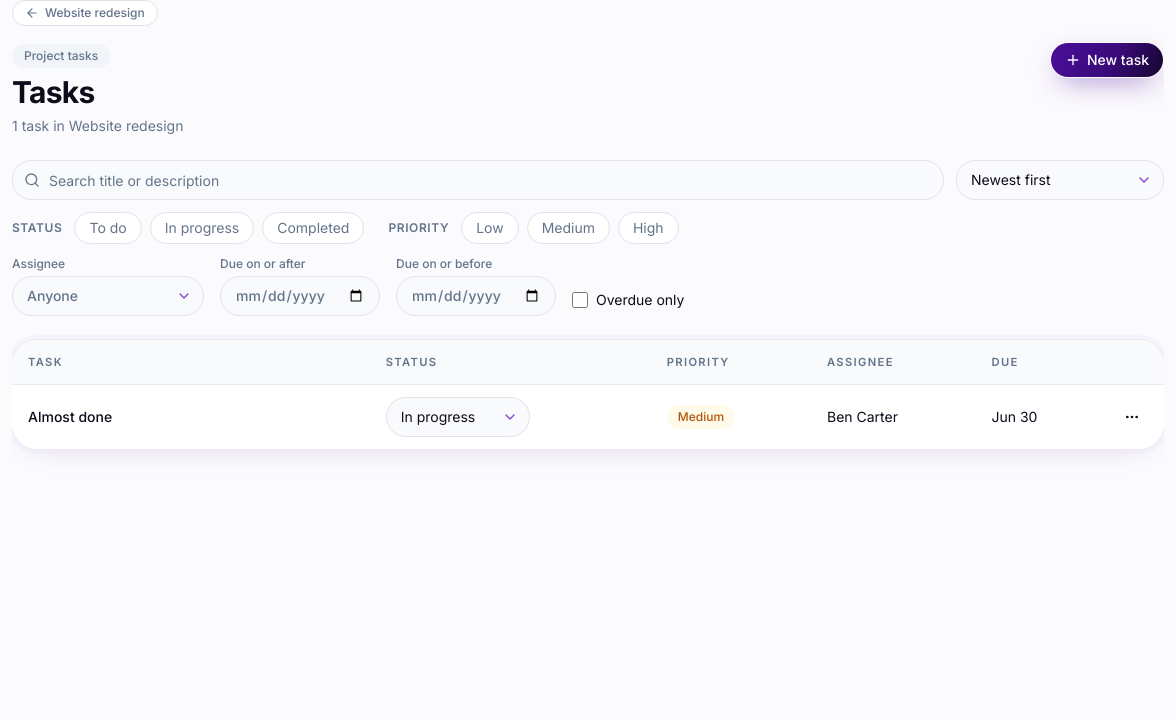
Test: status selector › shows the backend's reason when it refuses, and keeps the old status
This screenshot has width=1176, height=720.
Expected: the heading "Tasks" is shown, [12,74,94,110]
Select "Completed" in the dropdown named "Status of Almost done". click: (458, 416)
box: [386,396,530,436]
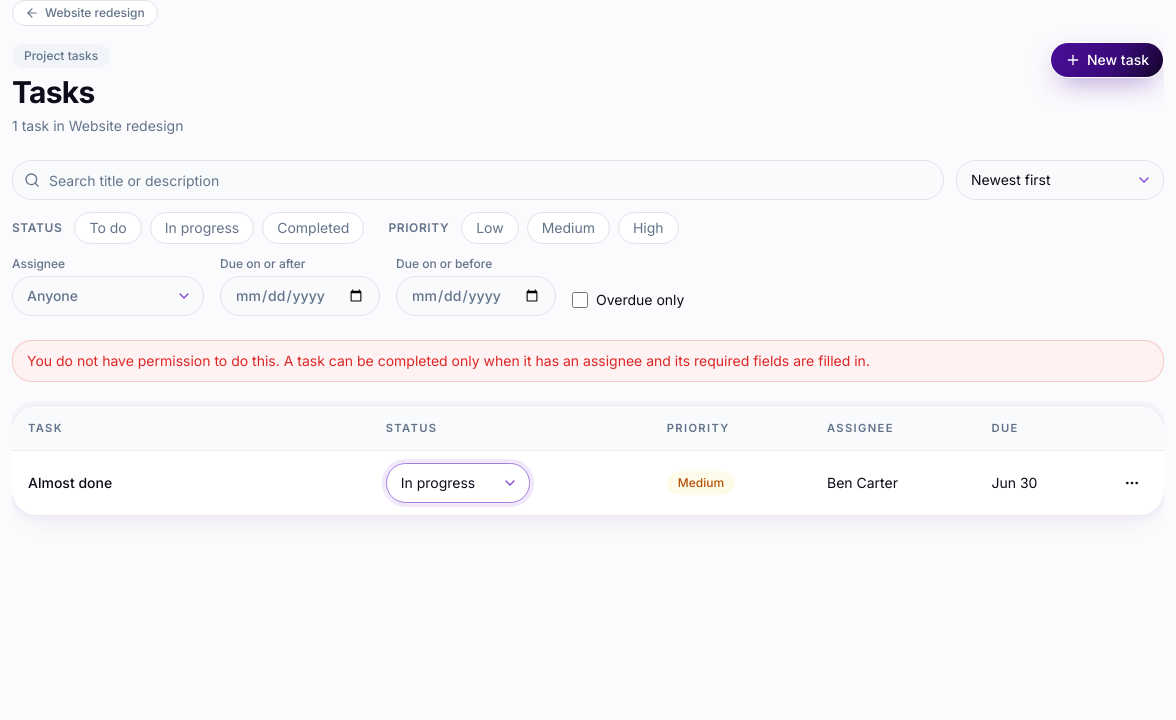
Expected: the message shows "You do not have permission to do this. A task can be completed only when it has an assignee", [27,352,870,369]
